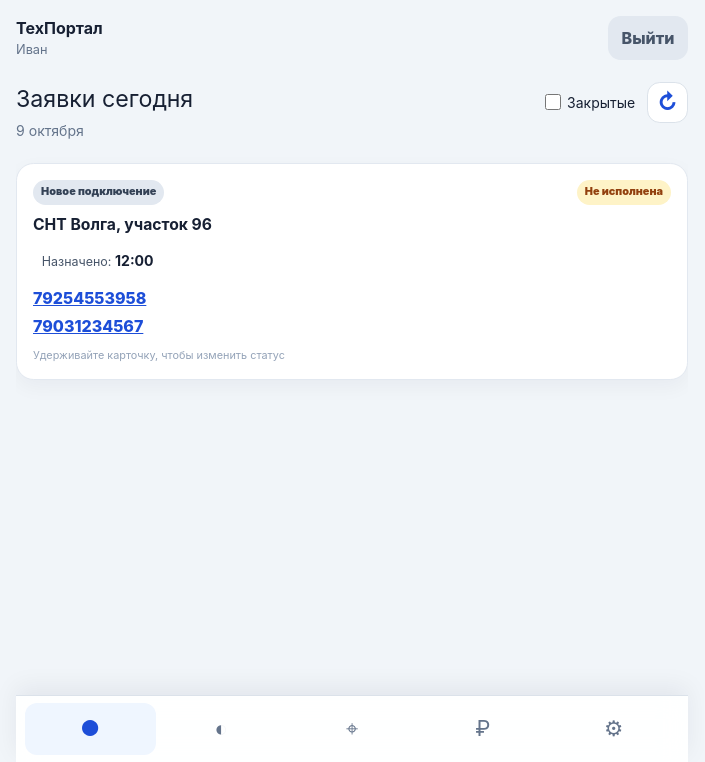
Test: Заявки › загружает отдельный список для вкладки «Завтра»
Expected: the button "СНТ Волга" is shown, [16,163,688,380]
Click the button named "Завтра": (221, 729) [156,703,287,755]
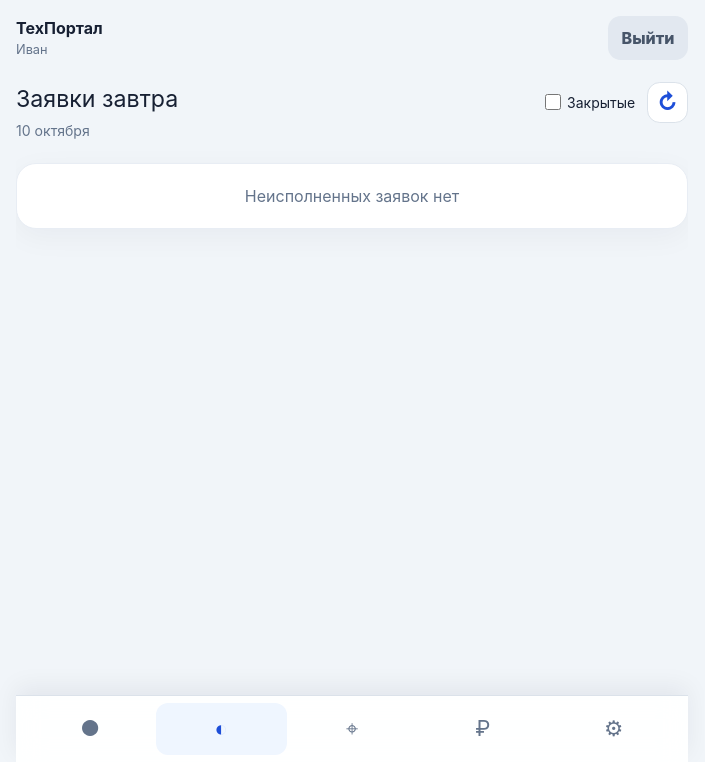
Expected: the heading "Заявки завтра" is shown, [16,82,178,117]
Expected: the text "Неисполненных заявок нет" is shown, [16,163,688,229]
